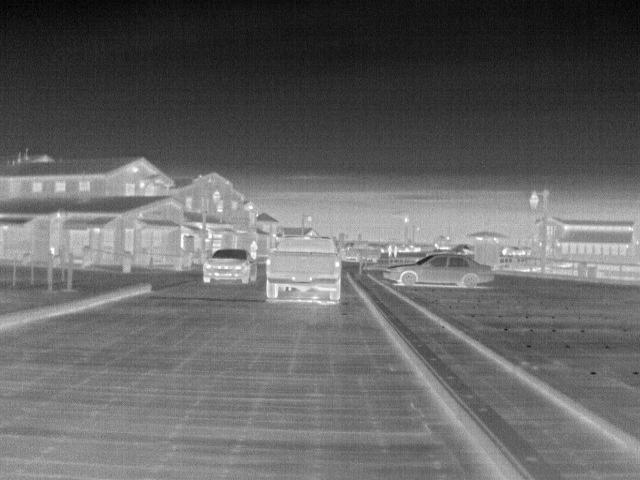car: (264, 235, 344, 302), (381, 252, 497, 290), (200, 246, 260, 286)
person: (249, 240, 262, 262)
